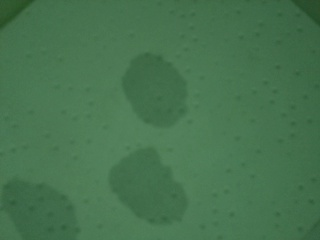Water_detected: (123, 157, 166, 213), (127, 65, 181, 107), (36, 198, 67, 232)
